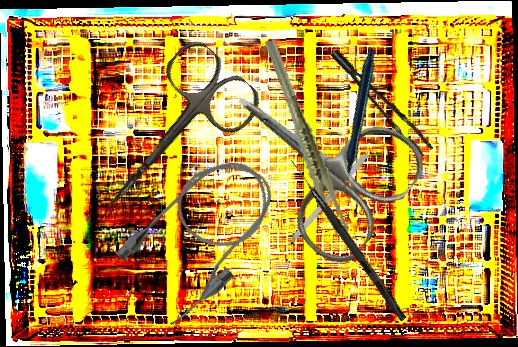Cannula: (106, 139, 298, 333)
Handpiece: (281, 46, 430, 193)
Hook Surgical: (286, 158, 409, 322), (275, 152, 369, 260)
Iris Scissors: (194, 40, 435, 275), (69, 34, 269, 239)
Tissue Forceps: (263, 33, 350, 242), (330, 37, 434, 166)
